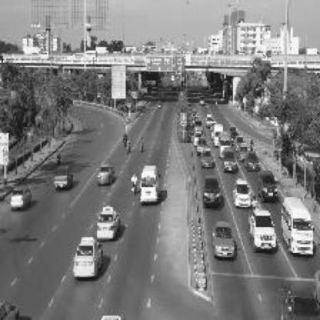other: (72, 204, 125, 276)
